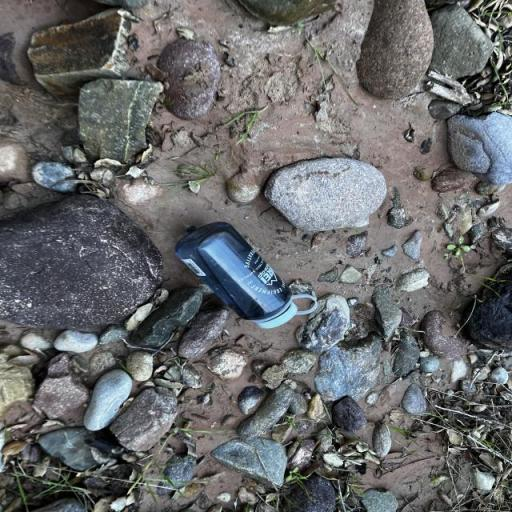bottle: (176, 222, 318, 328)
